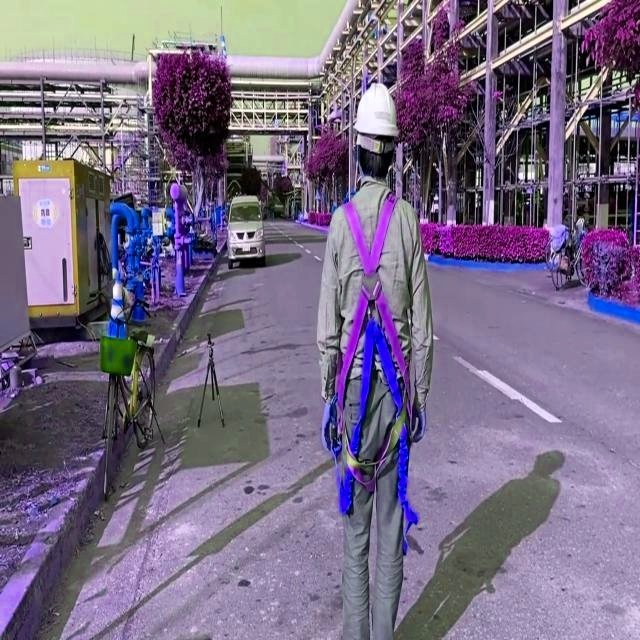safety belt: (300, 186, 443, 528)
